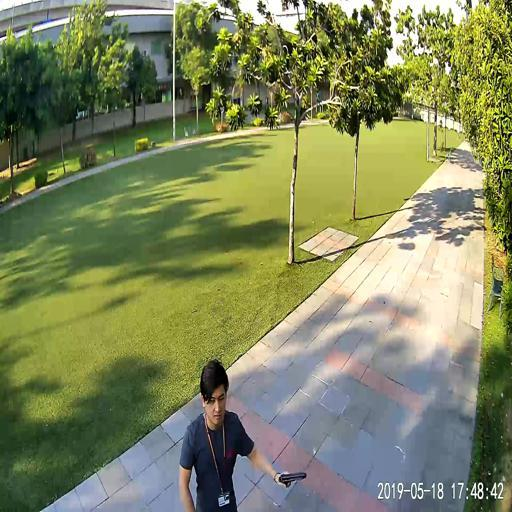Handgun: (277, 469, 305, 482)
